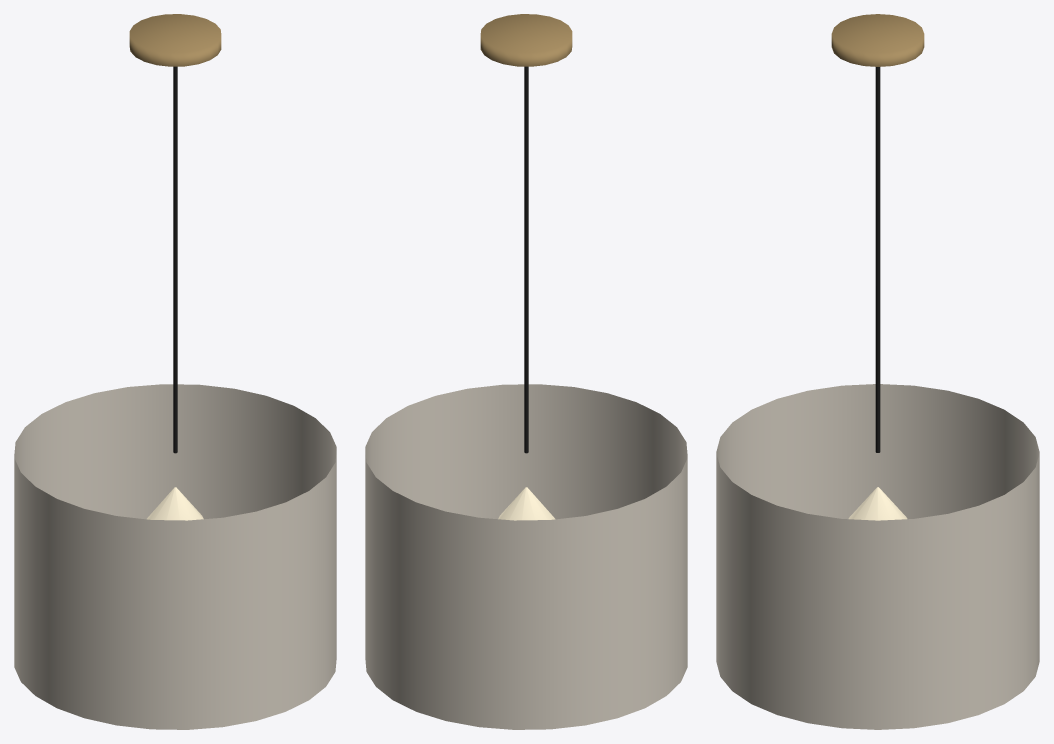
Rendered from CAL-PND-std.glb.
3 views of the same model, side by side, from view 1: azimuth 30°, elevation 25°; view 2: azimuth 150°, elevation 25°; view 3: azimuth 270°, elevation 25° (orthographic).
Parts seen in each view (by area): view 1: CAL-PND-std; view 2: CAL-PND-std; view 3: CAL-PND-std.
Boxes of the visible parts, x1,y1,x2,y2 form: CAL-PND-std: (14, 14, 336, 729); CAL-PND-std: (365, 14, 687, 729); CAL-PND-std: (716, 14, 1039, 729).
Size of the model in its own units: 0.42 by 0.9 by 0.42.
